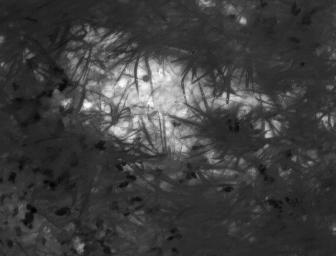landmine: (114, 48, 179, 108)
